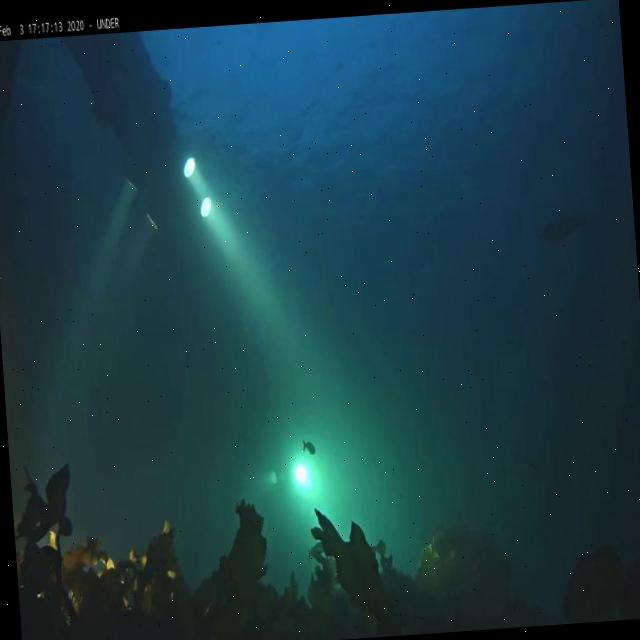fish: (537, 214, 592, 244), (517, 452, 541, 478), (300, 436, 316, 454)
